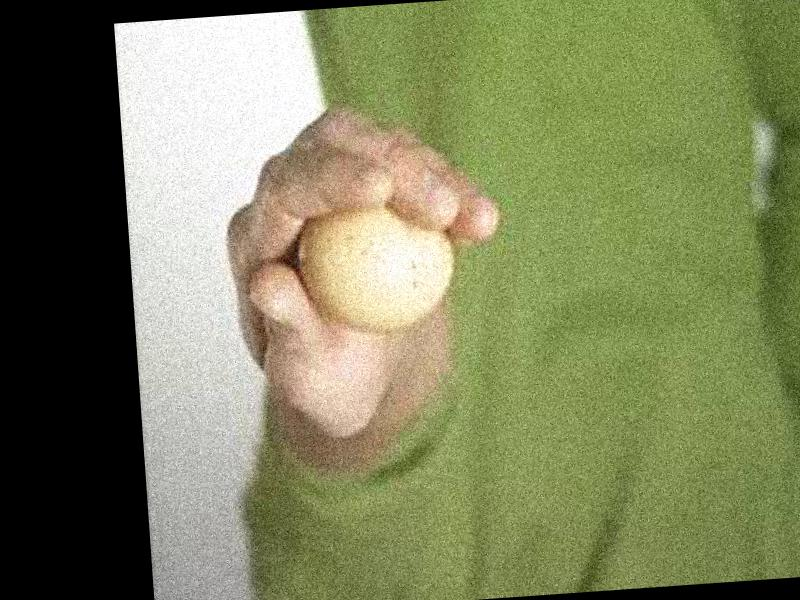Eggs: (296, 200, 459, 335)
